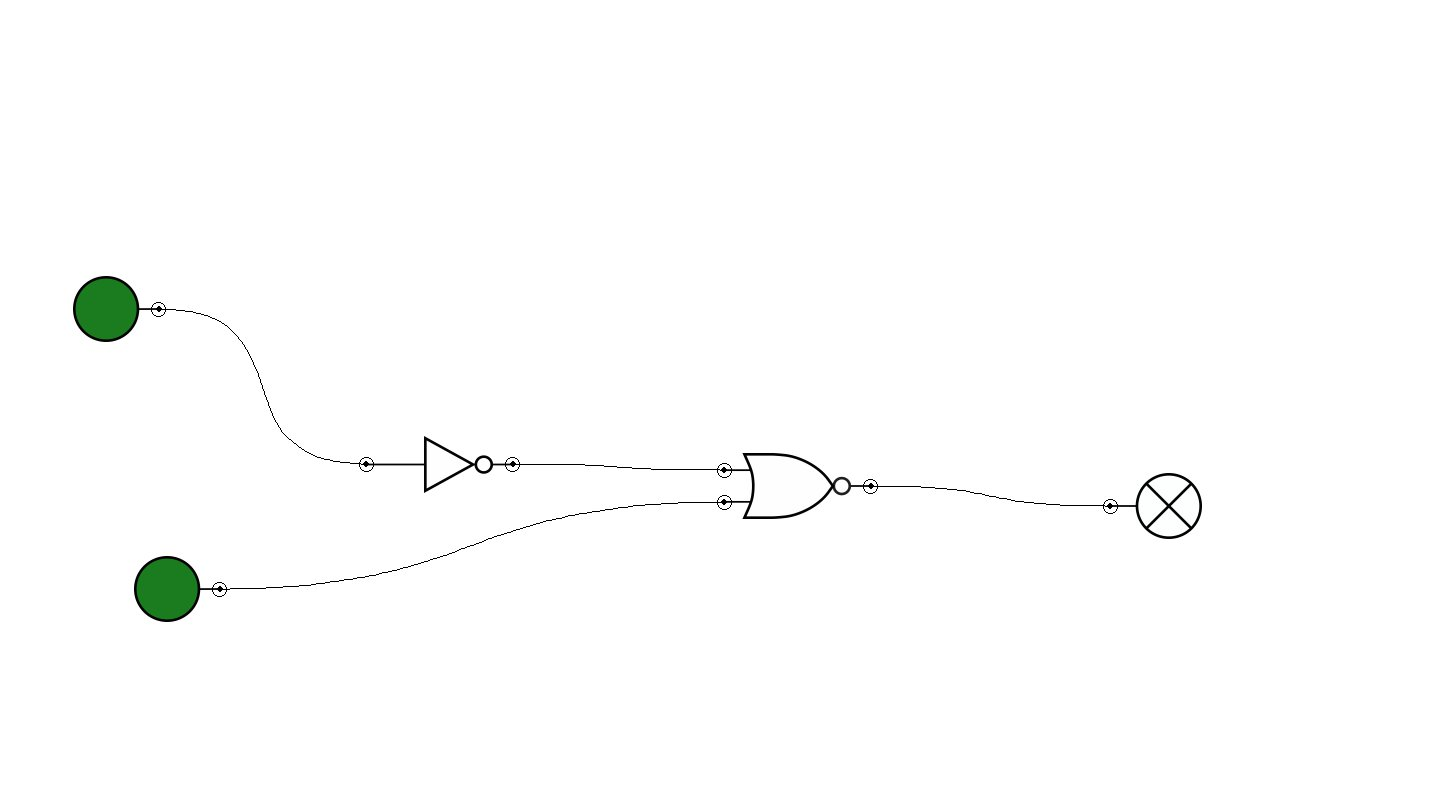bulb: (1103, 473, 1202, 539)
nor: (717, 453, 878, 519)
not: (359, 436, 520, 493)
switch_True: (73, 276, 166, 342), (134, 556, 227, 622)
